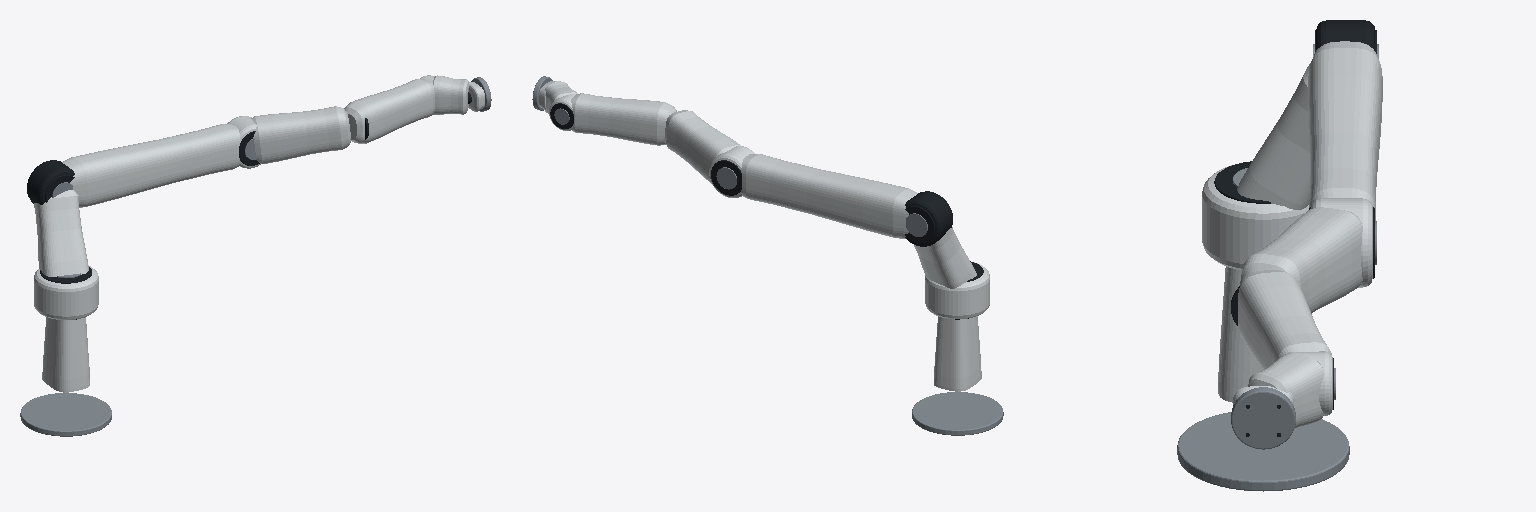
robot.urdf — kuka_kr6_r900_2_reference:
<?xml version='1.0' encoding='utf-8'?>
<robot name="kuka_kr6_r900_2_reference">
  <link name="world" />
  <link name="base_link">
    <inertial>
      <origin xyz="-0.0371334830929 2.66020335777e-05 0.108638507921" rpy="0 -0 0" />
      <mass value="16.916" />
      <inertia ixx="0.11504911500502474" iyy="0.18460772957111593" izz="0.15586289062426104" ixy="-0.0003878600673919129" ixz="-0.01712527875088671" iyz="-0.0004799126714353341" />
    </inertial>
    <visual name="base_link_base_visual">
      <geometry>
        <mesh filename="meshes/base_link_base_visual.stl" />
      </geometry>
      <material name="base_link_base">
        <color rgba="0.16 0.18 0.2 1" />
      </material>
    </visual>
    <collision name="base_link_base_collision">
      <origin xyz="0 0 -0.041" rpy="0 -0 0" />
      <geometry>
        <cylinder radius="0.09112500000000001" length="0.082" />
      </geometry>
    </collision>
    <visual name="base_link_mounting_rim_visual">
      <geometry>
        <mesh filename="meshes/base_link_mounting_rim_visual.stl" />
      </geometry>
      <material name="base_link_mounting_rim">
        <color rgba="0.55 0.58 0.61 1" />
      </material>
    </visual>
    <visual name="base_link_beam_visual">
      <geometry>
        <mesh filename="meshes/base_link_beam_visual.stl" />
      </geometry>
      <material name="base_link_beam">
        <color rgba="0.82 0.84 0.85 1" />
      </material>
    </visual>
    <collision name="base_link_beam_collision">
      <origin xyz="0 0 0.104" rpy="0 -0 -1.57079632679" />
      <geometry>
        <box size="0.1 0.082 0.0832" />
      </geometry>
    </collision>
  </link>
  <link name="link_1">
    <inertial>
      <origin xyz="0.00641040874525 -0.0162680537072 -0.106588937738" rpy="0 -0 0" />
      <mass value="8.415999999999999" />
      <inertia ixx="0.1096735317338231" iyy="0.08408777912829729" izz="0.07974406950191366" ixy="-0.0006801629975047489" ixz="-0.004304295690945813" iyz="0.0072715532681998695" />
    </inertial>
    <visual name="link_1_housing_visual">
      <geometry>
        <mesh filename="meshes/link_1_housing_visual.stl" />
      </geometry>
      <material name="link_1_housing">
        <color rgba="0.82 0.84 0.85 1" />
      </material>
    </visual>
    <collision name="link_1_housing_collision">
      <origin xyz="0 0 0" rpy="-0 -0 -1.57079632679" />
      <geometry>
        <cylinder radius="0.0675" length="0.082" />
      </geometry>
    </collision>
    <visual name="link_1_cap_visual">
      <geometry>
        <mesh filename="meshes/link_1_cap_visual.stl" />
      </geometry>
      <material name="link_1_cap">
        <color rgba="0.16 0.18 0.2 1" />
      </material>
    </visual>
    <visual name="link_1_cap_hub_visual">
      <geometry>
        <mesh filename="meshes/link_1_cap_hub_visual.stl" />
      </geometry>
      <material name="link_1_cap_hub">
        <color rgba="0.55 0.58 0.61 1" />
      </material>
    </visual>
    <visual name="link_1_rear_cap_visual">
      <geometry>
        <mesh filename="meshes/link_1_rear_cap_visual.stl" />
      </geometry>
      <material name="link_1_rear_cap">
        <color rgba="0.16 0.18 0.2 1" />
      </material>
    </visual>
    <visual name="link_1_rear_cap_hub_visual">
      <geometry>
        <mesh filename="meshes/link_1_rear_cap_hub_visual.stl" />
      </geometry>
      <material name="link_1_rear_cap_hub">
        <color rgba="0.55 0.58 0.61 1" />
      </material>
    </visual>
    <visual name="link_1_beam_visual">
      <geometry>
        <mesh filename="meshes/link_1_beam_visual.stl" />
      </geometry>
      <material name="link_1_beam">
        <color rgba="0.82 0.84 0.85 1" />
      </material>
    </visual>
    <collision name="link_1_beam_collision">
      <origin xyz="0.0125 -0.04535 -0.096" rpy="2.68596709893 -0 0.268955501127" />
      <geometry>
        <box size="0.1 0.082 0.0855247239107" />
      </geometry>
    </collision>
  </link>
  <link name="link_2">
    <inertial>
      <origin xyz="0.147417139982 -0.00447731976014 -0.0737027824855" rpy="0 -0 0" />
      <mass value="16.7929" />
      <inertia ixx="0.08779315847216561" iyy="0.588429110799473" izz="0.5478318904624914" ixy="0.006515675693463543" ixz="0.014832550281934817" iyz="0.00016585812914908608" />
    </inertial>
    <visual name="link_2_housing_visual">
      <geometry>
        <mesh filename="meshes/link_2_housing_visual.stl" />
      </geometry>
      <material name="link_2_housing">
        <color rgba="0.16 0.18 0.2 1" />
      </material>
    </visual>
    <collision name="link_2_housing_collision">
      <origin xyz="0 0 0" rpy="-0 -0 -1.57079632679" />
      <geometry>
        <cylinder radius="0.0525" length="0.065" />
      </geometry>
    </collision>
    <visual name="link_2_cap_visual">
      <geometry>
        <mesh filename="meshes/link_2_cap_visual.stl" />
      </geometry>
      <material name="link_2_cap">
        <color rgba="0.16 0.18 0.2 1" />
      </material>
    </visual>
    <visual name="link_2_cap_hub_visual">
      <geometry>
        <mesh filename="meshes/link_2_cap_hub_visual.stl" />
      </geometry>
      <material name="link_2_cap_hub">
        <color rgba="0.55 0.58 0.61 1" />
      </material>
    </visual>
    <visual name="link_2_rear_cap_visual">
      <geometry>
        <mesh filename="meshes/link_2_rear_cap_visual.stl" />
      </geometry>
      <material name="link_2_rear_cap">
        <color rgba="0.16 0.18 0.2 1" />
      </material>
    </visual>
    <visual name="link_2_rear_cap_hub_visual">
      <geometry>
        <mesh filename="meshes/link_2_rear_cap_hub_visual.stl" />
      </geometry>
      <material name="link_2_rear_cap_hub">
        <color rgba="0.55 0.58 0.61 1" />
      </material>
    </visual>
    <visual name="link_2_beam_visual">
      <geometry>
        <mesh filename="meshes/link_2_beam_visual.stl" />
      </geometry>
      <material name="link_2_beam">
        <color rgba="0.82 0.84 0.85 1" />
      </material>
    </visual>
    <collision name="link_2_beam_collision">
      <origin xyz="0.2275 0 -0.0021" rpy="1.58002683386 -0 1.57079632679" />
      <geometry>
        <box size="0.1 0.082 0.339519384202" />
      </geometry>
    </collision>
  </link>
  <link name="link_3">
    <inertial>
      <origin xyz="0.0416506346025 -0.0123254843019 -0.0679862892452" rpy="0 -0 0" />
      <mass value="5.988" />
      <inertia ixx="0.01939742999544255" iyy="0.04736163149193551" izz="0.042573216758684036" ixy="-0.0023297250868403382" ixz="0.0026731135171008586" iyz="-0.0008904144222611828" />
    </inertial>
    <visual name="link_3_housing_visual">
      <geometry>
        <mesh filename="meshes/link_3_housing_visual.stl" />
      </geometry>
      <material name="link_3_housing">
        <color rgba="0.82 0.84 0.85 1" />
      </material>
    </visual>
    <collision name="link_3_housing_collision">
      <origin xyz="0 0 0" rpy="-0 -0 -1.57079632679" />
      <geometry>
        <cylinder radius="0.049" length="0.068" />
      </geometry>
    </collision>
    <visual name="link_3_cap_visual">
      <geometry>
        <mesh filename="meshes/link_3_cap_visual.stl" />
      </geometry>
      <material name="link_3_cap">
        <color rgba="0.16 0.18 0.2 1" />
      </material>
    </visual>
    <visual name="link_3_cap_hub_visual">
      <geometry>
        <mesh filename="meshes/link_3_cap_hub_visual.stl" />
      </geometry>
      <material name="link_3_cap_hub">
        <color rgba="0.55 0.58 0.61 1" />
      </material>
    </visual>
    <visual name="link_3_rear_cap_visual">
      <geometry>
        <mesh filename="meshes/link_3_rear_cap_visual.stl" />
      </geometry>
      <material name="link_3_rear_cap">
        <color rgba="0.16 0.18 0.2 1" />
      </material>
    </visual>
    <visual name="link_3_rear_cap_hub_visual">
      <geometry>
        <mesh filename="meshes/link_3_rear_cap_hub_visual.stl" />
      </geometry>
      <material name="link_3_rear_cap_hub">
        <color rgba="0.55 0.58 0.61 1" />
      </material>
    </visual>
    <visual name="link_3_beam_visual">
      <geometry>
        <mesh filename="meshes/link_3_beam_visual.stl" />
      </geometry>
      <material name="link_3_beam">
        <color rgba="0.82 0.84 0.85 1" />
      </material>
    </visual>
    <collision name="link_3_beam_collision">
      <origin xyz="0.098 -0.0125 -0.04325" rpy="1.9834415271 6.93889390391e-18 1.44393035196" />
      <geometry>
        <box size="0.0948237624967 0.0777554852473 0.107892489438" />
      </geometry>
    </collision>
  </link>
  <link name="link_4">
    <inertial>
      <origin xyz="0.00144796934171 0.00942619293054 -0.08164304521" rpy="0 -0 0" />
      <mass value="4.69985262" />
      <inertia ixx="0.047167616070116006" iyy="0.044197132308905325" izz="0.010576474898441827" ixy="-8.791886258531812e-05" ixz="0.001199580944675658" iyz="-0.0012686721887541893" />
    </inertial>
    <visual name="link_4_housing_visual">
      <geometry>
        <mesh filename="meshes/link_4_housing_visual.stl" />
      </geometry>
      <material name="link_4_housing">
        <color rgba="0.82 0.84 0.85 1" />
      </material>
    </visual>
    <collision name="link_4_housing_collision">
      <origin xyz="0 0 0" rpy="-0 -0 -1.57079632679" />
      <geometry>
        <cylinder radius="0.045" length="0.052" />
      </geometry>
    </collision>
    <visual name="link_4_cap_visual">
      <geometry>
        <mesh filename="meshes/link_4_cap_visual.stl" />
      </geometry>
      <material name="link_4_cap">
        <color rgba="0.16 0.18 0.2 1" />
      </material>
    </visual>
    <visual name="link_4_cap_hub_visual">
      <geometry>
        <mesh filename="meshes/link_4_cap_hub_visual.stl" />
      </geometry>
      <material name="link_4_cap_hub">
        <color rgba="0.55 0.58 0.61 1" />
      </material>
    </visual>
    <visual name="link_4_rear_cap_visual">
      <geometry>
        <mesh filename="meshes/link_4_rear_cap_visual.stl" />
      </geometry>
      <material name="link_4_rear_cap">
        <color rgba="0.16 0.18 0.2 1" />
      </material>
    </visual>
    <visual name="link_4_rear_cap_hub_visual">
      <geometry>
        <mesh filename="meshes/link_4_rear_cap_hub_visual.stl" />
      </geometry>
      <material name="link_4_rear_cap_hub">
        <color rgba="0.55 0.58 0.61 1" />
      </material>
    </visual>
    <visual name="link_4_beam_visual">
      <geometry>
        <mesh filename="meshes/link_4_beam_visual.stl" />
      </geometry>
      <material name="link_4_beam">
        <color rgba="0.82 0.84 0.85 1" />
      </material>
    </visual>
    <collision name="link_4_beam_collision">
      <origin xyz="0 0.02525 -0.112" rpy="2.91985333475 -0 3.14159265359" />
      <geometry>
        <box size="0.085908707903 0.0704451404804 0.130621971945" />
      </geometry>
    </collision>
  </link>
  <link name="link_5">
    <inertial>
      <origin xyz="0.0093206969246 0.000783482142857 -0.0264625496032" rpy="0 -0 0" />
      <mass value="1.6128" />
      <inertia ixx="0.0020131853299603162" iyy="0.0024663574051326867" izz="0.0019388237391009427" ixy="-1.8218247366072264e-05" ixz="0.00024084365009424588" iyz="1.0423322321428594e-05" />
    </inertial>
    <visual name="link_5_housing_visual">
      <geometry>
        <mesh filename="meshes/link_5_housing_visual.stl" />
      </geometry>
      <material name="link_5_housing">
        <color rgba="0.82 0.84 0.85 1" />
      </material>
    </visual>
    <collision name="link_5_housing_collision">
      <origin xyz="0 0 0" rpy="-0 -0 -1.57079632679" />
      <geometry>
        <cylinder radius="0.035809653028198975" length="0.05156590036060652" />
      </geometry>
    </collision>
    <visual name="link_5_cap_visual">
      <geometry>
        <mesh filename="meshes/link_5_cap_visual.stl" />
      </geometry>
      <material name="link_5_cap">
        <color rgba="0.16 0.18 0.2 1" />
      </material>
    </visual>
    <visual name="link_5_cap_hub_visual">
      <geometry>
        <mesh filename="meshes/link_5_cap_hub_visual.stl" />
      </geometry>
      <material name="link_5_cap_hub">
        <color rgba="0.55 0.58 0.61 1" />
      </material>
    </visual>
    <visual name="link_5_rear_cap_visual">
      <geometry>
        <mesh filename="meshes/link_5_rear_cap_visual.stl" />
      </geometry>
      <material name="link_5_rear_cap">
        <color rgba="0.16 0.18 0.2 1" />
      </material>
    </visual>
    <visual name="link_5_rear_cap_hub_visual">
      <geometry>
        <mesh filename="meshes/link_5_rear_cap_hub_visual.stl" />
      </geometry>
      <material name="link_5_rear_cap_hub">
        <color rgba="0.55 0.58 0.61 1" />
      </material>
    </visual>
    <visual name="link_5_beam_visual">
      <geometry>
        <mesh filename="meshes/link_5_beam_visual.stl" />
      </geometry>
      <material name="link_5_beam">
        <color rgba="0.82 0.84 0.85 1" />
      </material>
    </visual>
    <collision name="link_5_beam_collision">
      <origin xyz="0.03075 0 -0.02525" rpy="2.25829418245 -0 1.57079632679" />
      <geometry>
        <box size="0.0769936533093 0.0631347957136 0.0318308026917" />
      </geometry>
    </collision>
  </link>
  <link name="link_6">
    <inertial>
      <origin xyz="0 0 -0.0117646049046" rpy="0 -0 0" />
      <mass value="0.734" />
      <inertia ixx="0.00018231724263542232" iyy="0.00018351724263542235" izz="0.00029589000000000004" ixy="4.999999999999909e-07" ixz="0.0" iyz="0.0" />
    </inertial>
    <visual name="link_6_housing_visual">
      <geometry>
        <mesh filename="meshes/link_6_housing_visual.stl" />
      </geometry>
      <material name="link_6_housing">
        <color rgba="0.16 0.18 0.2 1" />
      </material>
    </visual>
    <collision name="link_6_housing_collision">
      <origin xyz="0 0 0" rpy="-0 -0 -1.57079632679" />
      <geometry>
        <cylinder radius="0.012825000000000001" length="0.018468000000000005" />
      </geometry>
    </collision>
    <visual name="link_6_cap_visual">
      <geometry>
        <mesh filename="meshes/link_6_cap_visual.stl" />
      </geometry>
      <material name="link_6_cap">
        <color rgba="0.16 0.18 0.2 1" />
      </material>
    </visual>
    <visual name="link_6_cap_hub_visual">
      <geometry>
        <mesh filename="meshes/link_6_cap_hub_visual.stl" />
      </geometry>
      <material name="link_6_cap_hub">
        <color rgba="0.55 0.58 0.61 1" />
      </material>
    </visual>
    <visual name="link_6_rear_cap_visual">
      <geometry>
        <mesh filename="meshes/link_6_rear_cap_visual.stl" />
      </geometry>
      <material name="link_6_rear_cap">
        <color rgba="0.16 0.18 0.2 1" />
      </material>
    </visual>
    <visual name="link_6_rear_cap_hub_visual">
      <geometry>
        <mesh filename="meshes/link_6_rear_cap_hub_visual.stl" />
      </geometry>
      <material name="link_6_rear_cap_hub">
        <color rgba="0.55 0.58 0.61 1" />
      </material>
    </visual>
    <visual name="link_6_beam_visual">
      <geometry>
        <mesh filename="meshes/link_6_beam_visual.stl" />
      </geometry>
      <material name="link_6_beam">
        <color rgba="0.82 0.84 0.85 1" />
      </material>
    </visual>
    <collision name="link_6_beam_collision">
      <origin xyz="0 0 -0.01425" rpy="3.14159265359 -0 1.57079632679" />
      <geometry>
        <box size="0.0680785987156 0.0558244509468 0.0114" />
      </geometry>
    </collision>
    <visual name="link_6_flange_visual">
      <geometry>
        <mesh filename="meshes/link_6_flange_visual.stl" />
      </geometry>
      <material name="link_6_flange">
        <color rgba="0.55 0.58 0.61 1" />
      </material>
    </visual>
    <collision name="link_6_flange_collision">
      <origin xyz="0 0 -0.0285" rpy="3.14159265359 1.22464679915e-16 3.14159265359" />
      <geometry>
        <cylinder radius="0.03574126432567457" length="0.012254147768802709" />
      </geometry>
    </collision>
    <visual name="link_6_flange_fastener_0_visual">
      <geometry>
        <mesh filename="meshes/link_6_flange_fastener_0_visual.stl" />
      </geometry>
      <material name="link_6_flange_fastener_0">
        <color rgba="0.16 0.18 0.2 1" />
      </material>
    </visual>
    <visual name="link_6_flange_fastener_1_visual">
      <geometry>
        <mesh filename="meshes/link_6_flange_fastener_1_visual.stl" />
      </geometry>
      <material name="link_6_flange_fastener_1">
        <color rgba="0.16 0.18 0.2 1" />
      </material>
    </visual>
    <visual name="link_6_flange_fastener_2_visual">
      <geometry>
        <mesh filename="meshes/link_6_flange_fastener_2_visual.stl" />
      </geometry>
      <material name="link_6_flange_fastener_2">
        <color rgba="0.16 0.18 0.2 1" />
      </material>
    </visual>
    <visual name="link_6_flange_fastener_3_visual">
      <geometry>
        <mesh filename="meshes/link_6_flange_fastener_3_visual.stl" />
      </geometry>
      <material name="link_6_flange_fastener_3">
        <color rgba="0.16 0.18 0.2 1" />
      </material>
    </visual>
  </link>
  <link name="tool_frame" />
  <joint name="world_fixed" type="fixed">
    <parent link="world" />
    <child link="base_link" />
    <origin xyz="0 0 0" rpy="0 -0 0" />
  </joint>
  <joint name="joint_1" type="revolute">
    <parent link="base_link" />
    <child link="link_1" />
    <origin xyz="0 0 0.208" rpy="3.14159265359 -0 0" />
    <axis xyz="0 0 1" />
    <limit lower="-2.967059725" upper="2.967059725" effort="334.80000000000007" velocity="6.283185307179586" />
    <dynamics damping="0" friction="0" />
  </joint>
  <joint name="joint_2" type="revolute">
    <parent link="link_1" />
    <child link="link_2" />
    <origin xyz="0.025 -0.0907 -0.192" rpy="1.57079632679 -0 0" />
    <axis xyz="0 0 1" />
    <limit lower="-3.316125575" upper="0.7853981625" effort="260.6565296761672" velocity="5.235987755982989" />
    <dynamics damping="0" friction="0" />
  </joint>
  <joint name="joint_3" type="revolute">
    <parent link="link_2" />
    <child link="link_3" />
    <origin xyz="0.455 0 -0.0042" rpy="0 -0 0" />
    <axis xyz="0 0 1" />
    <limit lower="-2.0943951" upper="2.72271363" effort="137.82737531209466" velocity="6.283185307179586" />
    <dynamics damping="0" friction="0" />
  </joint>
  <joint name="joint_4" type="revolute">
    <parent link="link_3" />
    <child link="link_4" />
    <origin xyz="0.196 -0.025 -0.0865" rpy="1.57079632679 -0 -1.57079632679" />
    <axis xyz="0 0 1" />
    <limit lower="-3.2288591125" upper="3.2288591125" effort="43.282069018283245" velocity="7.853981633974483" />
    <dynamics damping="0" friction="0" />
  </joint>
  <joint name="joint_5" type="revolute">
    <parent link="link_4" />
    <child link="link_5" />
    <origin xyz="0 0.0505 -0.224" rpy="0 1.57079632679 1.57079632679" />
    <axis xyz="0 0 1" />
    <limit lower="-2.0943951" upper="2.0943951" effort="45.66960684399588" velocity="7.853981633974483" />
    <dynamics damping="0" friction="0" />
  </joint>
  <joint name="joint_6" type="revolute">
    <parent link="link_5" />
    <child link="link_6" />
    <origin xyz="0.0615 0 -0.0505" rpy="1.57079632679 -0 -1.57079632679" />
    <axis xyz="0 0 1" />
    <limit lower="-6.108652375" upper="6.108652375" effort="23.2939212" velocity="9.42477796076938" />
    <dynamics damping="0" friction="0" />
  </joint>
  <joint name="tool_fixed" type="fixed">
    <parent link="link_6" />
    <child link="tool_frame" />
    <origin xyz="0 0 -0.0285" rpy="3.14159265359 1.22464679915e-16 3.14159265359" />
  </joint>
  <mujoco>
    <compiler strippath="false" discardvisual="false" fusestatic="false" />
  </mujoco>
</robot>

--- What the picture shows (computed from the rendered views, not written in the file) ---
3 views of the same robot in one strip: view 1: azimuth 30°, elevation 25°; view 2: azimuth 150°, elevation 25°; view 3: azimuth 270°, elevation 25° (orthographic).
Robot: kuka_kr6_r900_2_reference — 9 links, 8 joints (6 revolute, 2 fixed); root link world; default pose: all joints at 0.
Visible links, largest first — view 1: link_2, link_1, base_link, link_3, link_4, link_5, link_6; view 2: link_2, base_link, link_1, link_3, link_4, link_5; view 3: link_2, base_link, link_1, link_3, link_4, link_5, link_6.
Boxes of the visible links, x1=… form: link_2: x1=27, y1=124, x2=240, y2=207; link_1: x1=34, y1=190, x2=98, y2=319; base_link: x1=20, y1=317, x2=111, y2=436; link_3: x1=227, y1=106, x2=350, y2=168; link_4: x1=344, y1=79, x2=434, y2=143; link_5: x1=420, y1=75, x2=468, y2=114; link_6: x1=468, y1=77, x2=491, y2=111; link_2: x1=741, y1=154, x2=952, y2=246; base_link: x1=912, y1=316, x2=1003, y2=435; link_1: x1=914, y1=227, x2=989, y2=319; link_3: x1=665, y1=110, x2=754, y2=197; link_4: x1=571, y1=93, x2=676, y2=145; link_5: x1=545, y1=82, x2=577, y2=130; link_2: x1=1308, y1=20, x2=1382, y2=220; base_link: x1=1177, y1=266, x2=1349, y2=491; link_1: x1=1202, y1=63, x2=1310, y2=270; link_3: x1=1240, y1=198, x2=1376, y2=313; link_4: x1=1231, y1=270, x2=1332, y2=369; link_5: x1=1248, y1=351, x2=1335, y2=428; link_6: x1=1231, y1=386, x2=1295, y2=449.
Bounding box of the posed robot: 1.09 × 0.226 × 0.55 m (x, y, z).
40 mesh visuals loaded from 44 distinct referenced files (40 binary STL); not drawn: 4 (reference not matched to a file when rendering).
